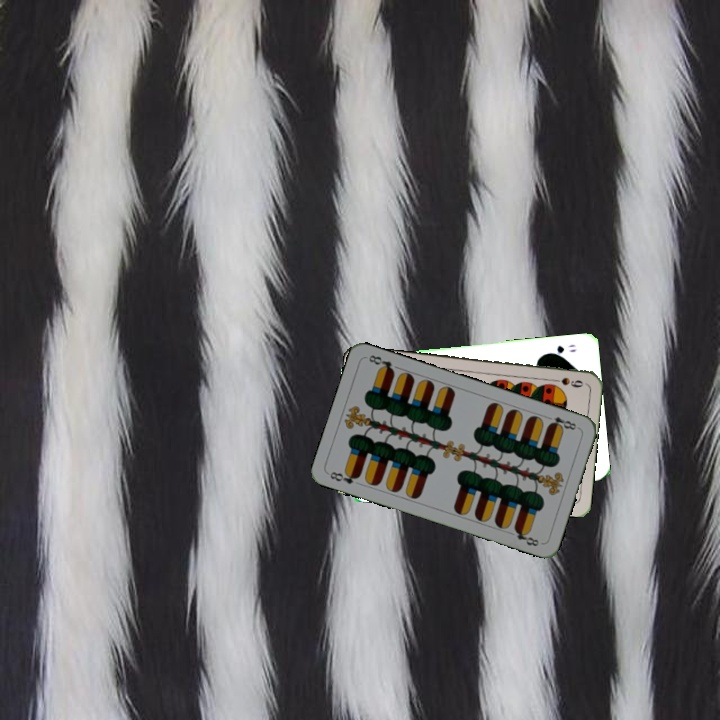E8: (542, 412, 581, 433), (326, 467, 363, 487)
GO: (542, 340, 579, 358)
S9: (546, 374, 586, 390)
